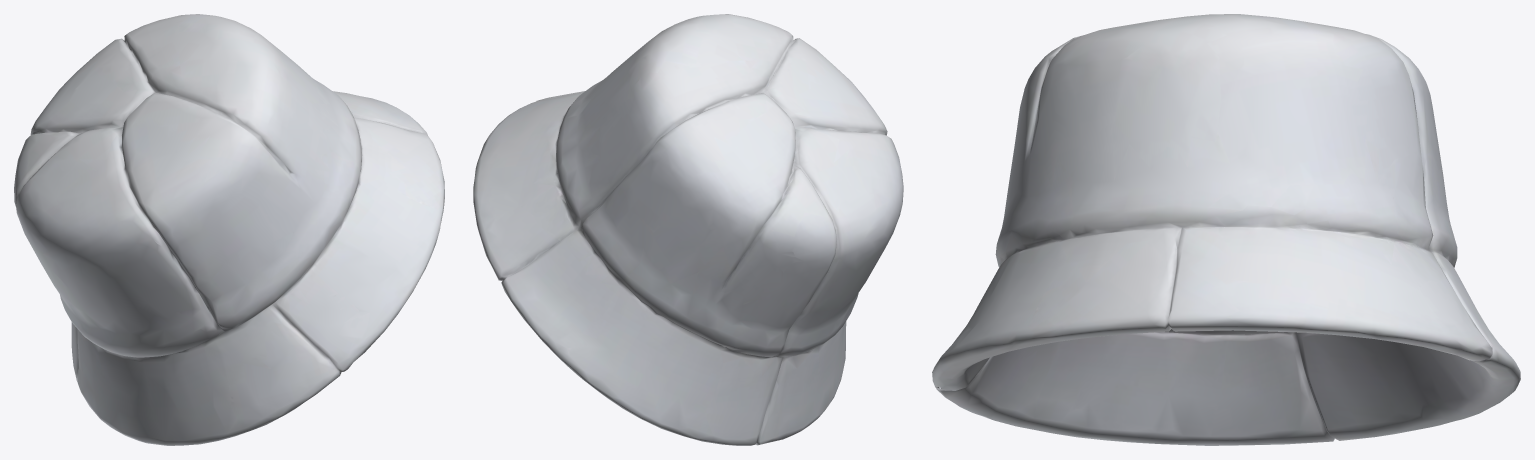
Rendered from hat-bucket.glb.
The picture shows the model from 3 angles, left to right: view 1: azimuth 30°, elevation 25°; view 2: azimuth 150°, elevation 25°; view 3: azimuth 270°, elevation 25°; orthographic projection. The views are drawn at different scales.
Visible parts, largest first — view 1: hat-bucket; view 2: hat-bucket; view 3: hat-bucket.
Boxes of the visible parts, x1,y1,x2,y2 form: hat-bucket: (14, 14, 444, 445); hat-bucket: (473, 14, 903, 445); hat-bucket: (932, 14, 1520, 445).
Size of the model in its own units: 0.9935 by 0.9393 by 1.
Materials: 1 (1 with a texture image).
